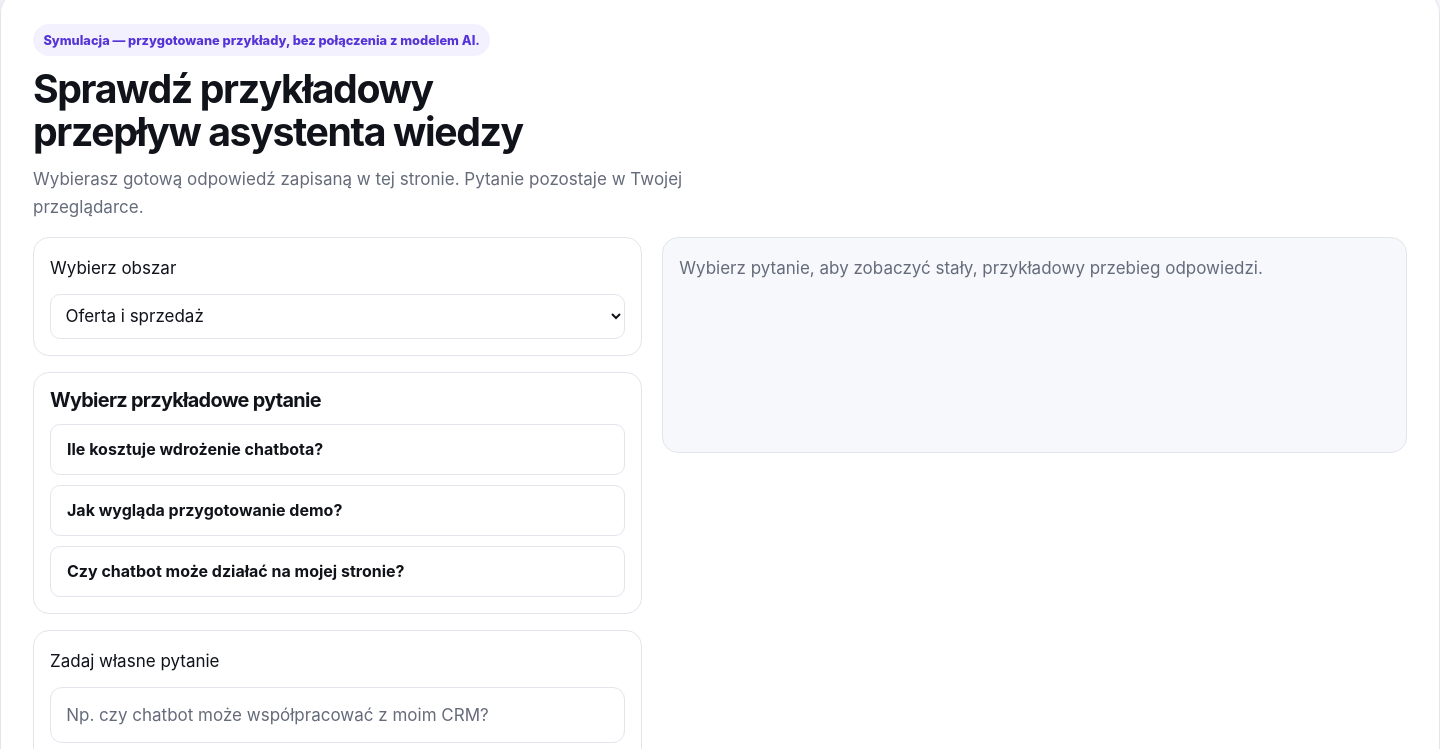
Test: KnowledgeDemoComponent › shows production note for the CRM status scenario
Step 1. Select "Obsługa i przekazanie sprawy" in the dropdown with id "demo-category" → (338, 316), box [50, 294, 625, 339]
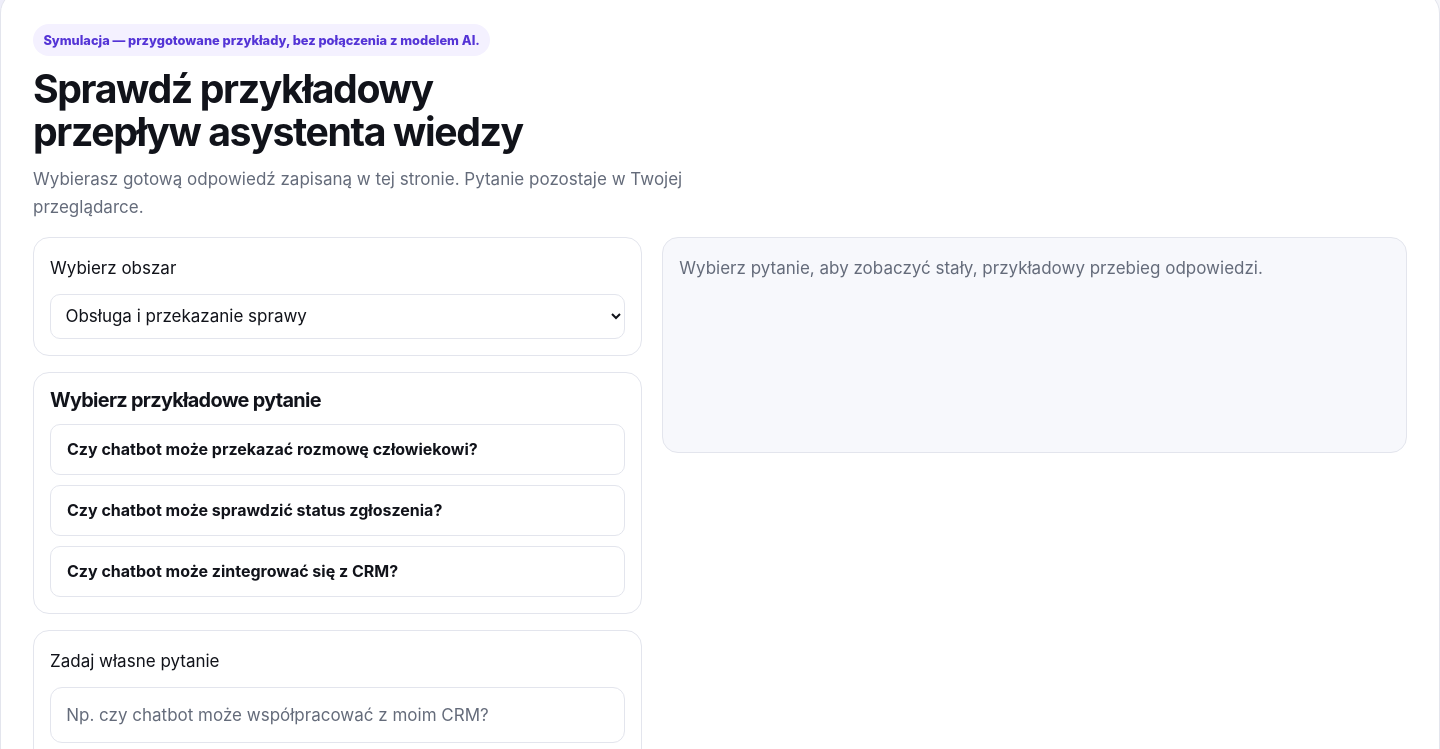
Step 2. Click the button "Czy chatbot może sprawdzić status zgłoszenia?" → (338, 510), box [50, 485, 625, 536]
Wait 250 ms
(page scrolled)
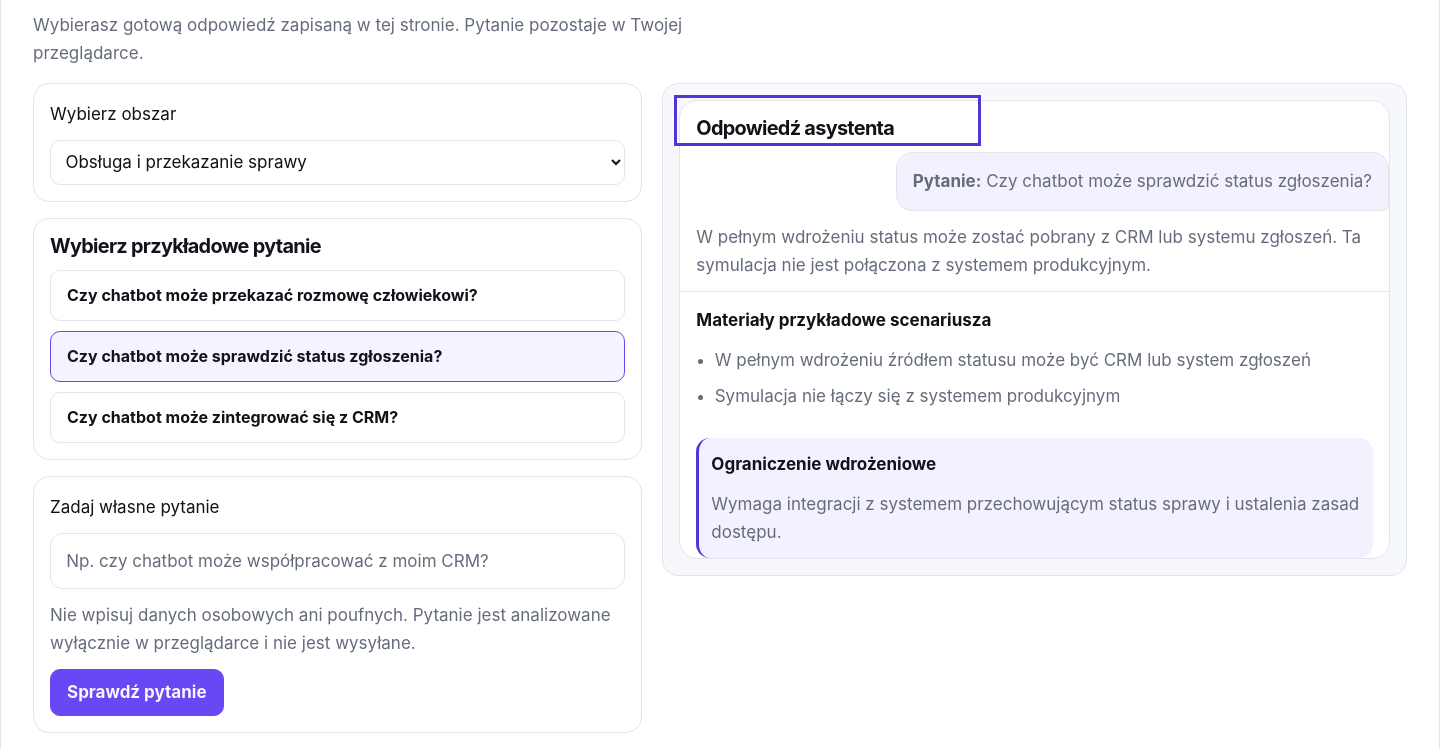
Expected: the element with class "answer-card" shows "Wymaga integracji z systemem przechowującym status sprawy", [711, 494, 1359, 542]
Expected: the element with class "answer-card" shows "Ograniczenie wdrożeniowe", [711, 454, 936, 474]
